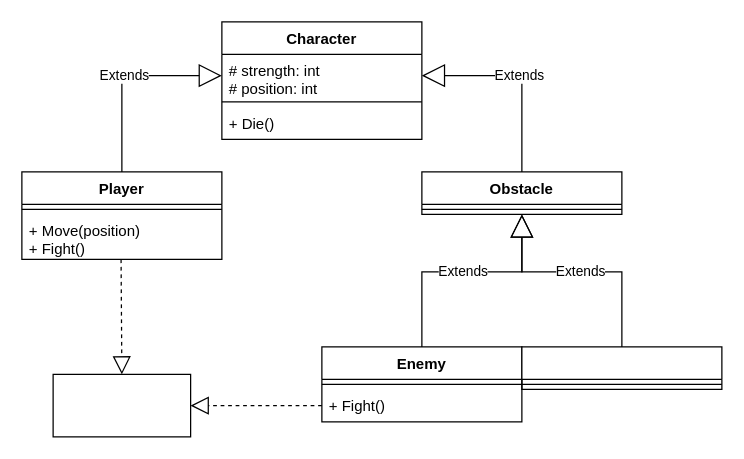
The diagram is 744 pixels wide and 459 high, and some of its shapes have lost their labels. Each missing label, with the centre of its shape:
"Ally" goes at (621,367).
"«interface» IFighter" goes at (121,405).
